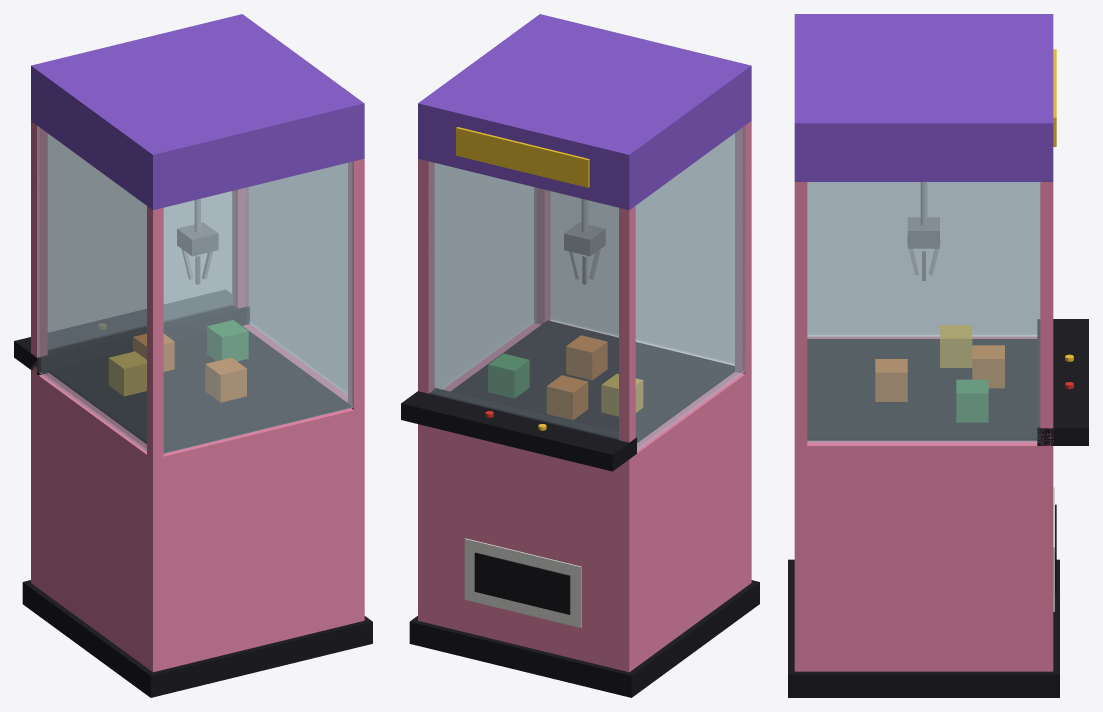
Rendered from Crane_Game.obj.
The picture shows the model from 3 angles, left to right: view 1: azimuth 30°, elevation 25°; view 2: azimuth 150°, elevation 25°; view 3: azimuth 270°, elevation 25°; orthographic projection. The views are drawn at different scales.
Parts seen in each view (by area): view 1: Crane_Game; view 2: Crane_Game; view 3: Crane_Game.
Boxes of the visible parts, <box> form: Crane_Game: <box>14,14,372,697</box>; Crane_Game: <box>401,14,759,697</box>; Crane_Game: <box>788,14,1088,697</box>.
Bounding box in the file's own units: 0.84 × 1.95 × 0.93.
